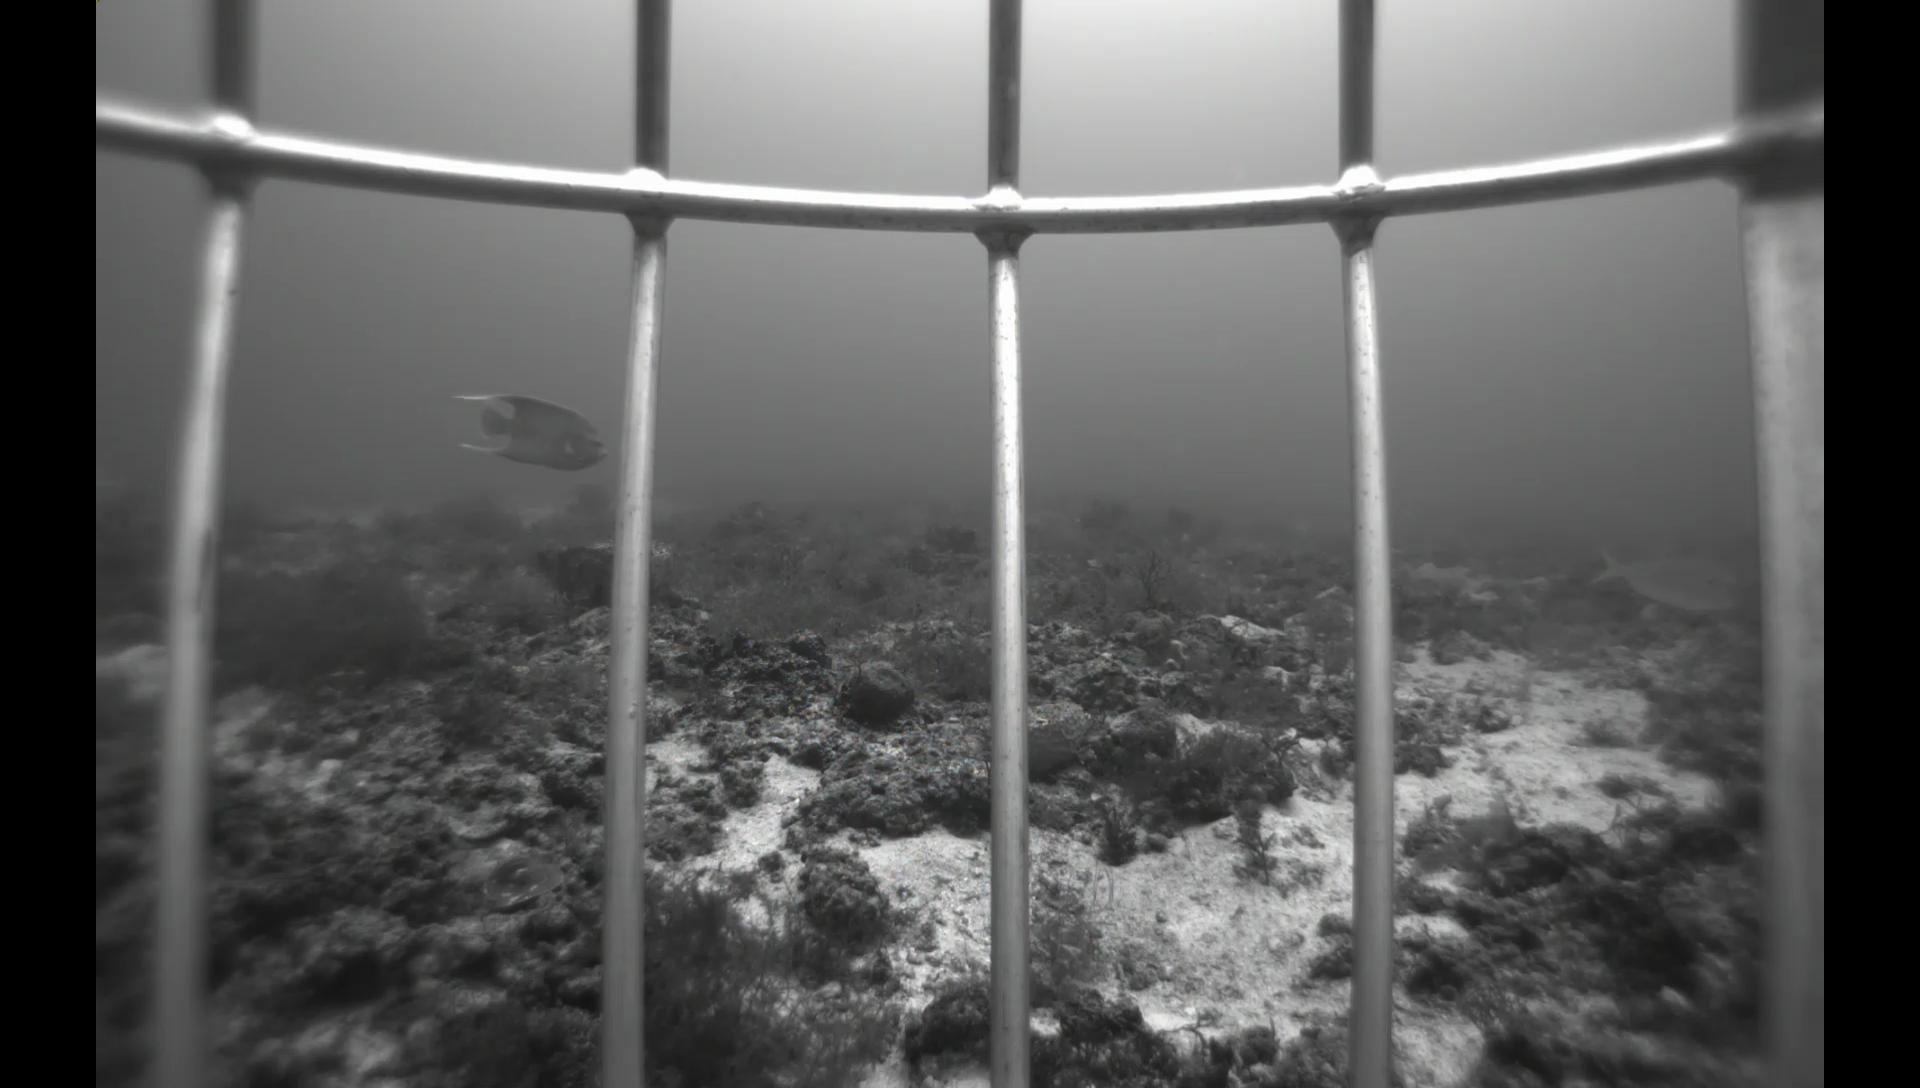CALAMUSNODOSUS-170210608: (1578, 530, 1759, 625)
HOLACANTHUSBERMUDENSIS-170290102: (442, 378, 617, 481)
SERRANUSANNULARIS-170024201: (356, 979, 473, 1037)
